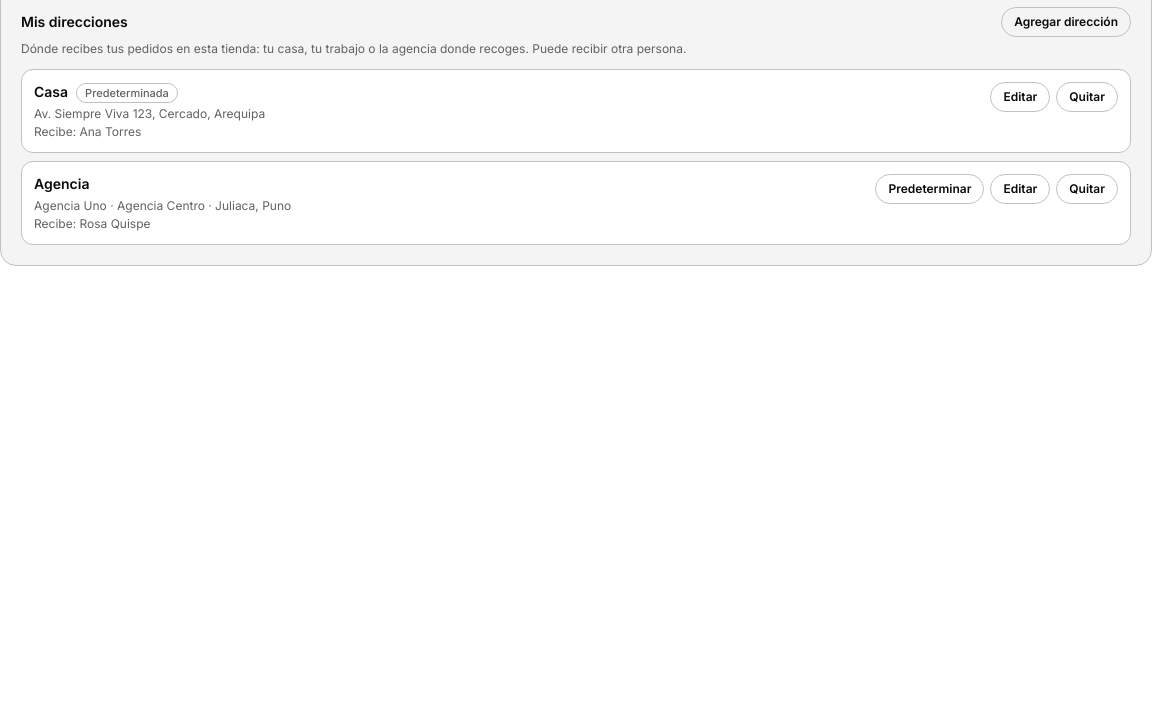
Scenario: what the server refuses is said next to its field and the form stays open
The image size is (1152, 702).
Click the button with aria-label "Editar Casa" at (1020, 97), box [990,82,1050,112]
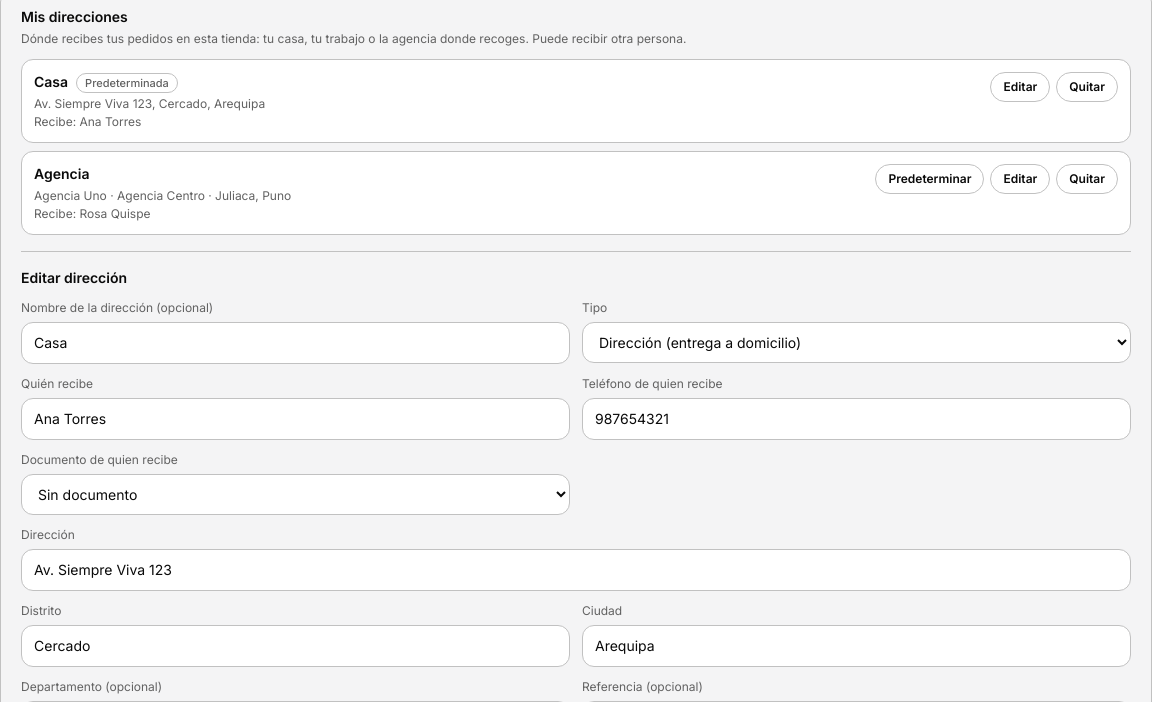
Clear the field labelled "Ciudad" at (856, 646), box [582,625,1131,667]
(page scrolled)
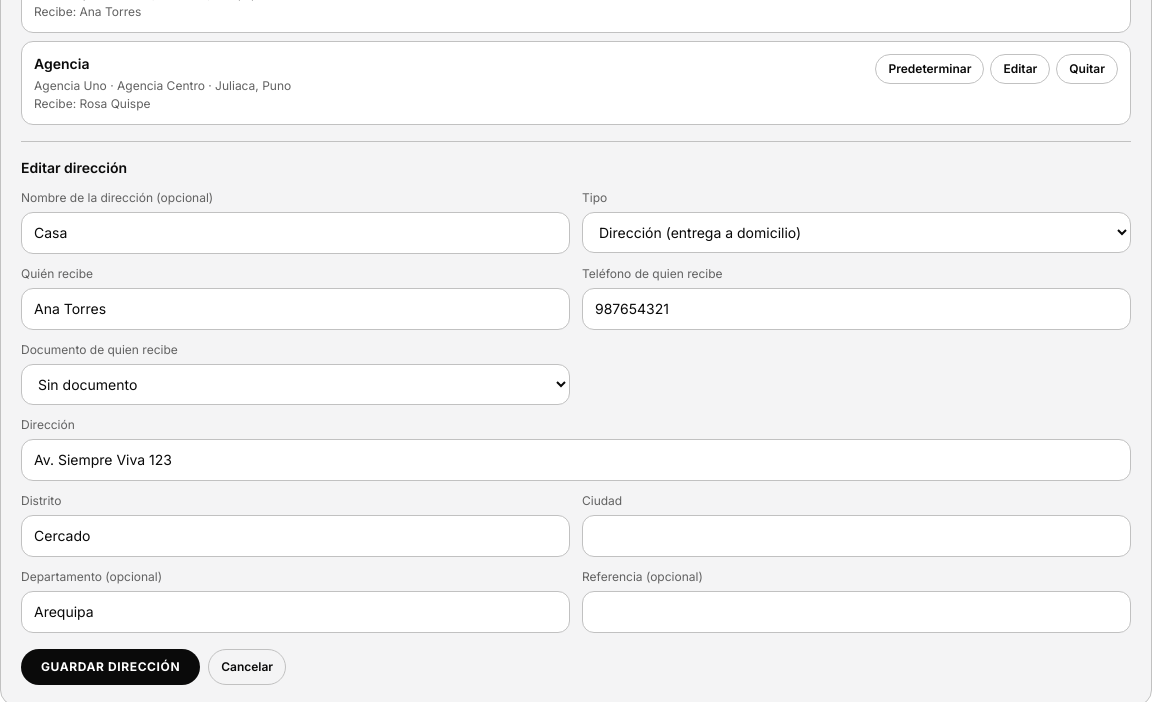
Click the button "Guardar dirección" at (111, 667), box [21,649,200,685]
(page scrolled)
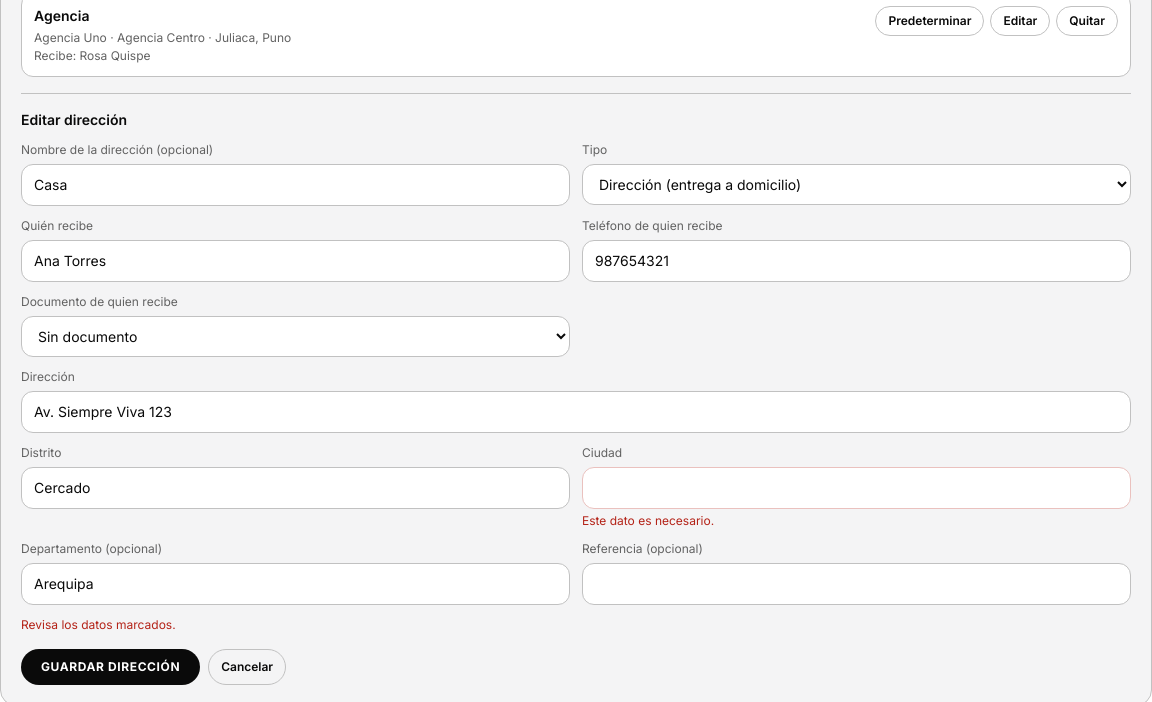
Check: the button "Guardar dirección" is shown, box [21,649,200,685]
Check: the text "Este dato es necesario." is shown, box [582,513,714,528]
Check: the text "Revisa los datos marcados." is shown, box [21,617,176,632]
